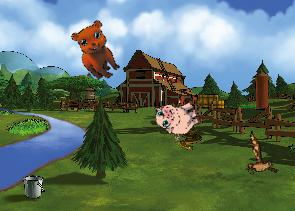bear: (64, 15, 132, 85)
eagle: (229, 130, 288, 187)
pig: (151, 91, 205, 143)
